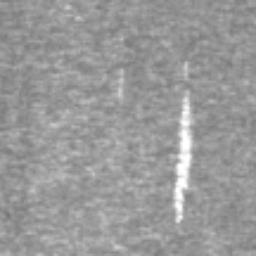White rust: (173, 89, 193, 224), (118, 68, 125, 102), (184, 60, 190, 82)
